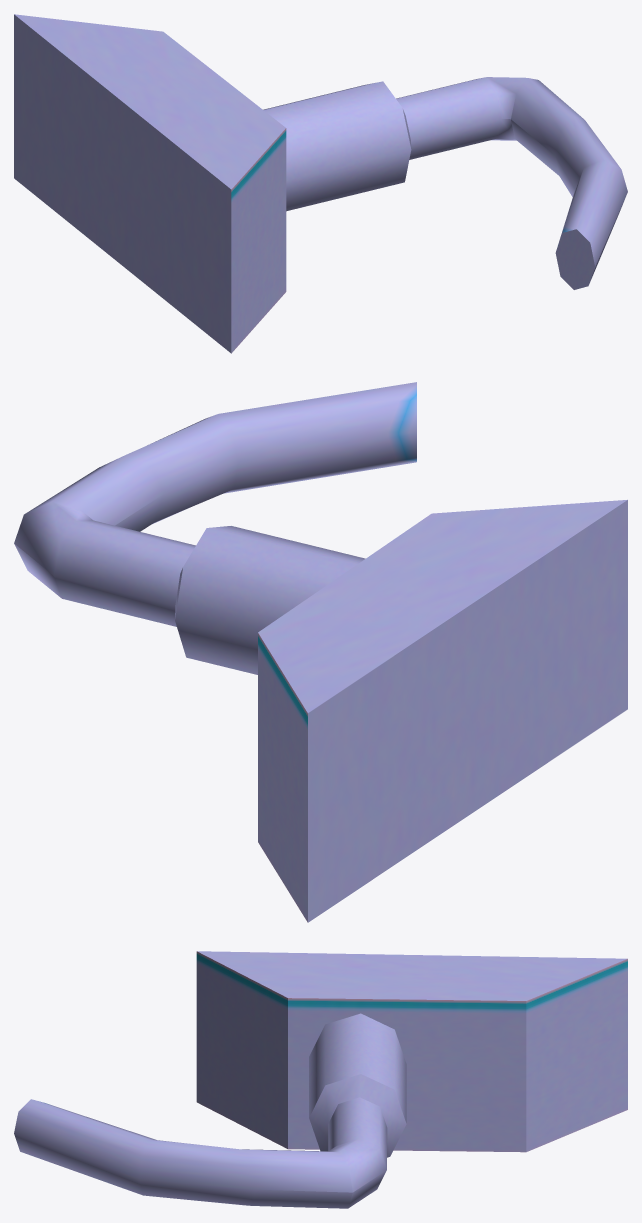
File: LitCableMountA1.fbx
3 views of the same model, one above another, from view 1: azimuth 30°, elevation 25°; view 2: azimuth 150°, elevation 25°; view 3: azimuth 270°, elevation 25° (orthographic). The views are drawn at different scales.
Visible parts, largest first — view 1: LitCableMountA1; view 2: LitCableMountA1; view 3: LitCableMountA1.
Part boxes in pixels (bbox=[...]): LitCableMountA1: bbox=[14, 14, 627, 353]; LitCableMountA1: bbox=[14, 382, 627, 922]; LitCableMountA1: bbox=[14, 951, 627, 1208].
Bounding box in the file's own units: 20.12 × 7.97 × 29.32.
Materials: 1 (1 with a texture image).
